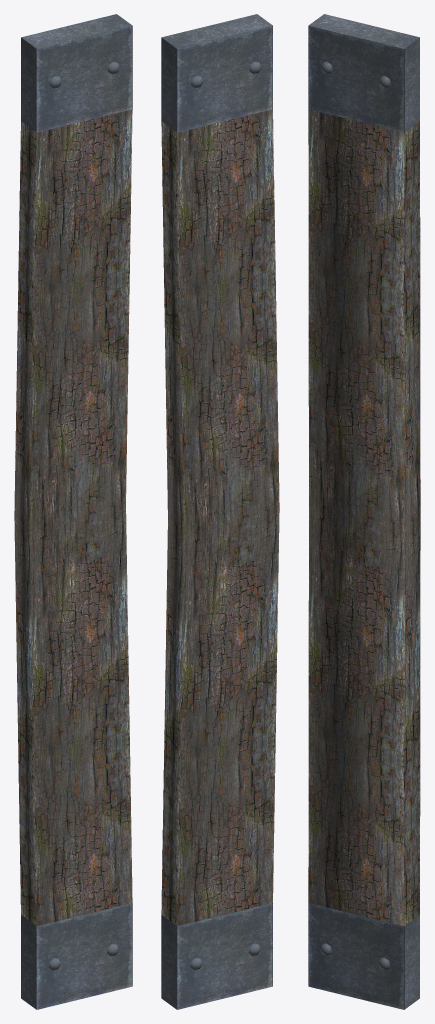
File: Wood_2.FBX
3 views of the same model, side by side, from view 1: azimuth 30°, elevation 25°; view 2: azimuth 210°, elevation 25°; view 3: azimuth 330°, elevation 25° (orthographic).
Parts seen in each view (by area): view 1: Box04; view 2: Box04; view 3: Box04.
Boxes of the visible parts, left/top/right/bottom form: Box04: left=14, top=14, right=132, bottom=1009; Box04: left=161, top=14, right=279, bottom=1009; Box04: left=308, top=14, right=420, bottom=1009.
Size of the model in its own units: 45.7 by 425 by 17.26.
Materials: 2 (2 with a texture image).
